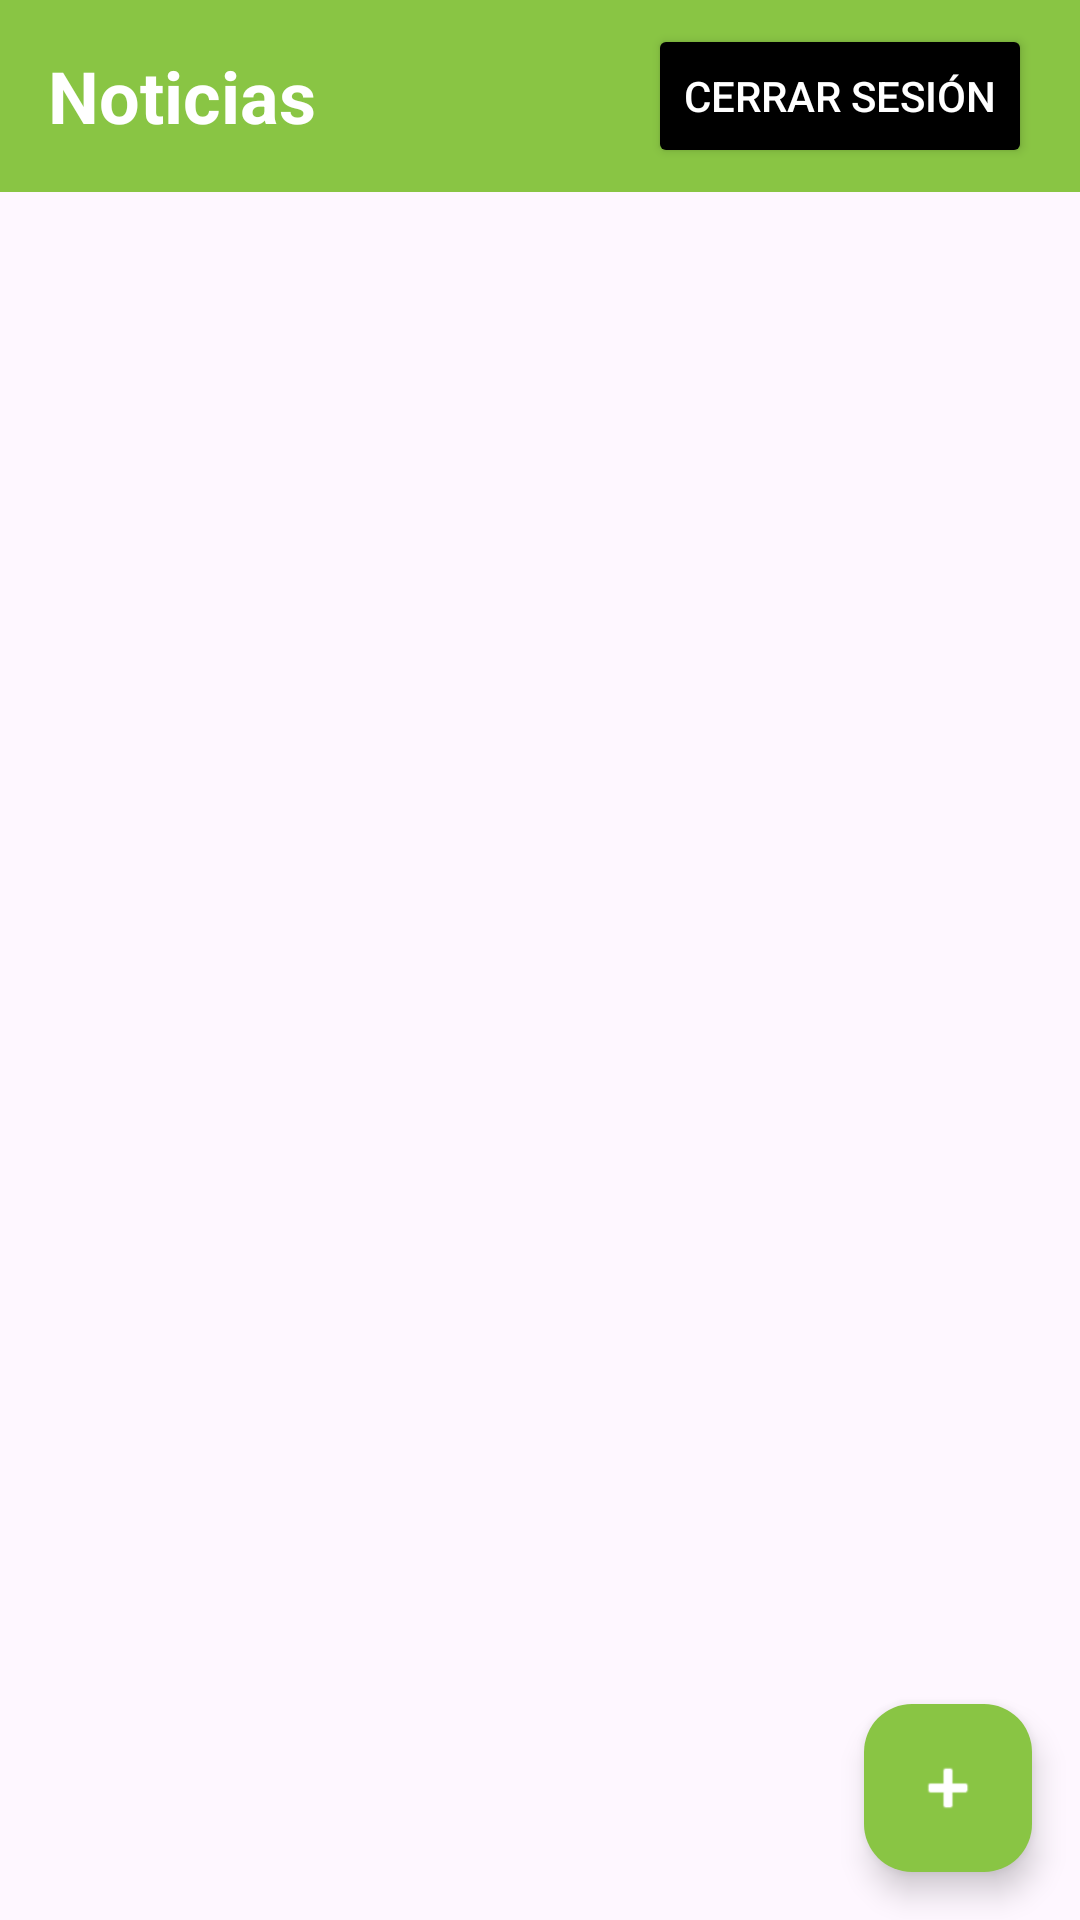

Point at icon controls on the screen. Image size 1080x1920, points as (x,y).
Agregar Noticia: (948,1788)
